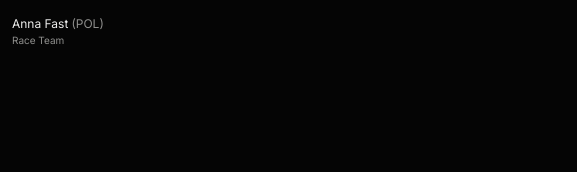
Scenario: rider navigation › stores the source page and shows country beside the name with only team below
The image size is (577, 172).
Expected: the text "Race Team" is shown, [12,34,64,46]
Click the link "Anna Fast" at (40, 24), box [12,16,68,31]
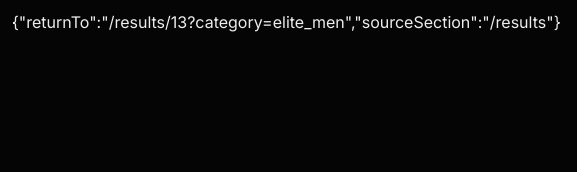
Result: the text "\"sourceSection\":\"/results\"" is shown at [12,12,560,32]
